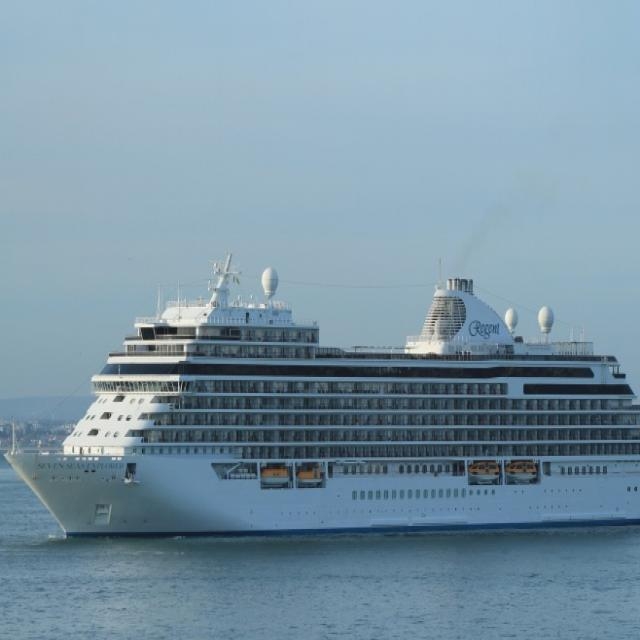cruises: (1, 250, 640, 545)
